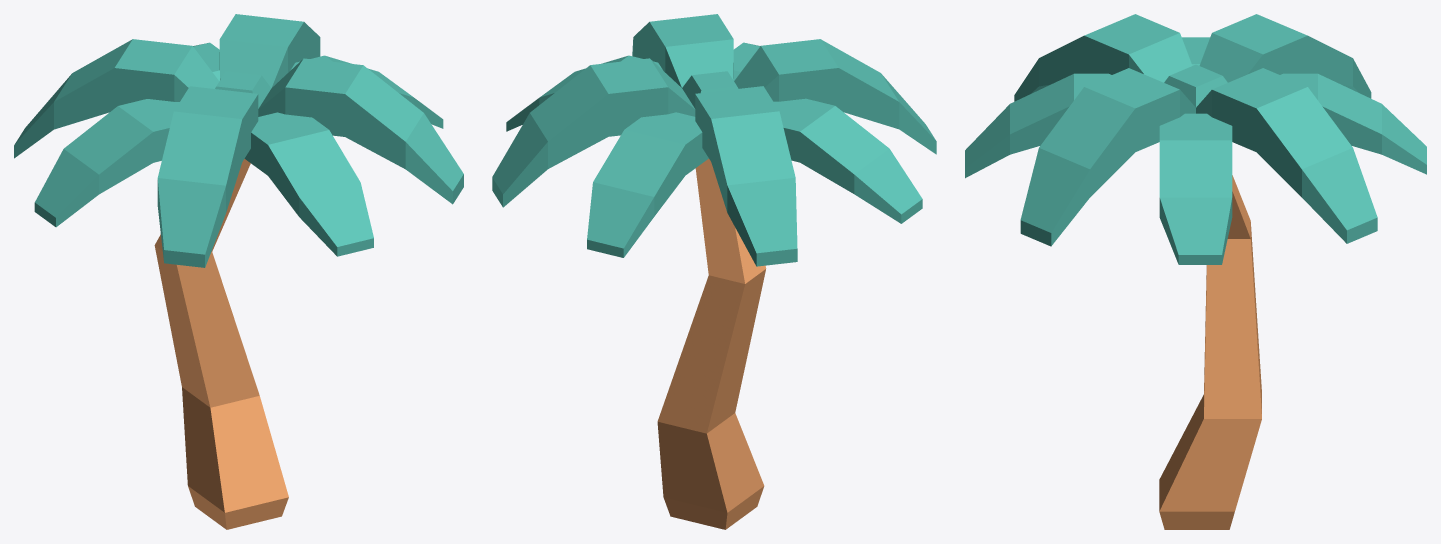
File: palmDetailed_small.fbx
3 views of the same model, side by side, from view 1: azimuth 30°, elevation 25°; view 2: azimuth 150°, elevation 25°; view 3: azimuth 270°, elevation 25° (orthographic). The views are drawn at different scales.
Visible parts, largest first — view 1: Group 147, Group 145; view 2: Group 147, Group 145; view 3: Group 147, Group 145.
Boxes of the visible parts, x1,y1,x2,y2 form: Group 147: (14, 14, 463, 267); Group 145: (154, 159, 288, 529); Group 147: (492, 14, 936, 266); Group 145: (657, 158, 766, 529); Group 147: (965, 14, 1426, 264); Group 145: (1159, 175, 1261, 529).
Size of the model in its own units: 7.72 by 8.39 by 7.72.
